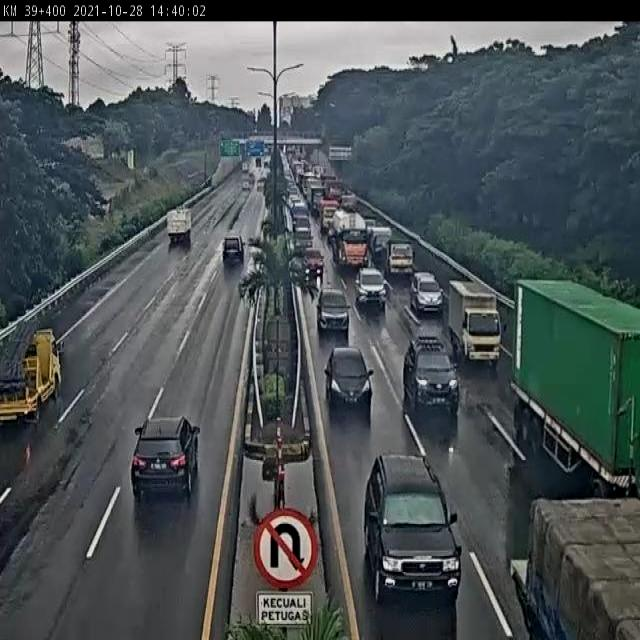Car: (362, 452, 462, 610), (131, 413, 203, 504), (402, 334, 460, 422), (323, 344, 374, 420), (316, 286, 351, 336), (353, 267, 389, 313), (409, 272, 444, 316), (303, 248, 325, 280), (222, 235, 245, 265), (242, 180, 250, 191)
Truck: (510, 280, 640, 504), (0, 327, 63, 428), (448, 281, 503, 372), (330, 207, 366, 253), (365, 224, 393, 266), (166, 208, 192, 248), (386, 240, 414, 277), (317, 198, 341, 235), (326, 182, 345, 204)
